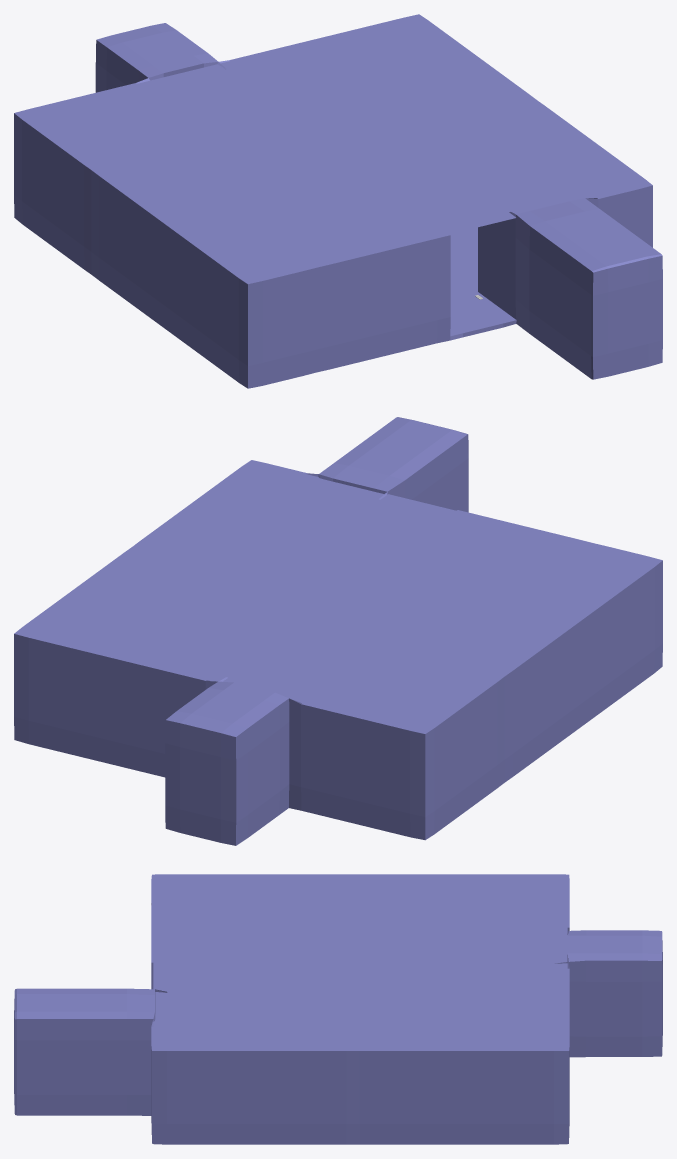
Rendered from room solidified.fbx.
The picture shows the model from 3 angles, top to bottom: view 1: azimuth 30°, elevation 25°; view 2: azimuth 150°, elevation 25°; view 3: azimuth 270°, elevation 25°; orthographic projection. The views are drawn at different scales.
Visible parts, largest first — view 1: Plane.001, Plane.002; view 2: Plane.001, Plane.002; view 3: Plane.001, Plane.002.
Boxes of the visible parts, x1,y1,x2,y2 form: Plane.001: [16, 15, 650, 283]; Plane.002: [14, 14, 662, 388]; Plane.001: [16, 461, 660, 732]; Plane.002: [14, 417, 662, 845]; Plane.001: [153, 875, 567, 1050]; Plane.002: [14, 874, 662, 1144].
Size of the model in its own units: 10100 by 2626 by 15665.
